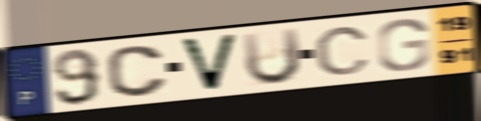9: (51, 47, 103, 108)
C: (104, 43, 171, 100), (312, 25, 373, 77)
G: (375, 17, 432, 73)
U: (239, 25, 304, 88)
V: (176, 32, 241, 94)
